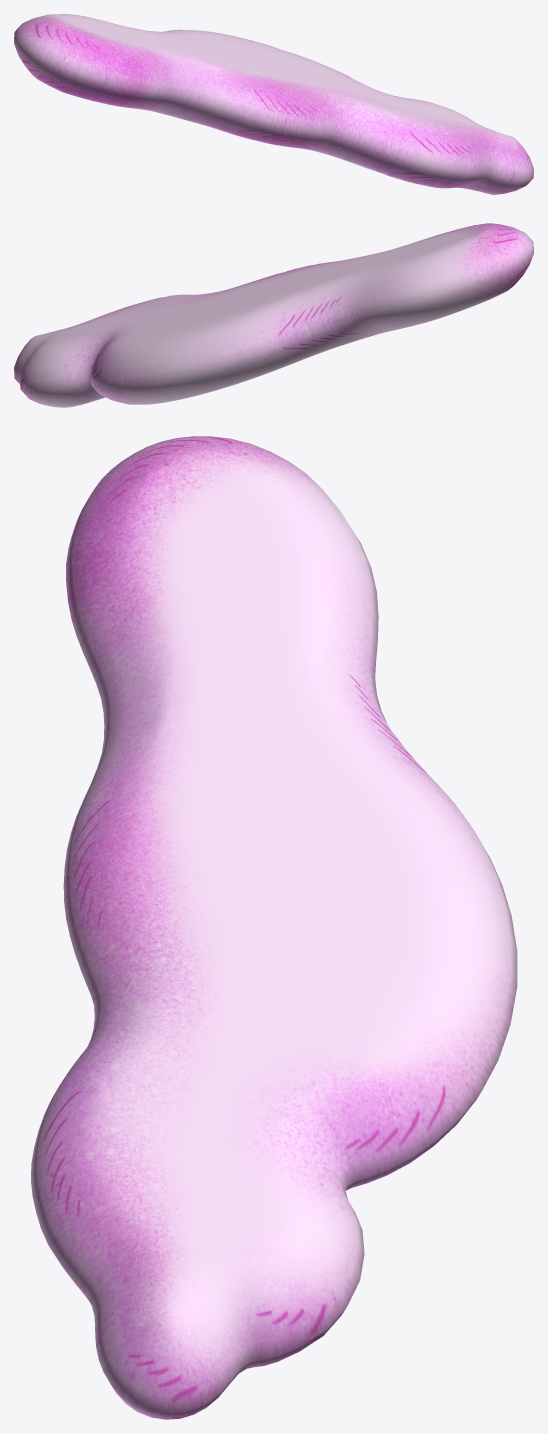
Rendered from Cloud_B005.obj.
3 views of the same model, one above another, from view 1: azimuth 30°, elevation 25°; view 2: azimuth 150°, elevation 25°; view 3: azimuth 270°, elevation 25° (orthographic). The views are drawn at different scales.
Visible parts, largest first — view 1: Cloud_B005; view 2: Cloud_B005; view 3: Cloud_B005.
Boxes of the visible parts, x1=… form: Cloud_B005: x1=14, y1=14, x2=533, y2=194; Cloud_B005: x1=14, y1=223, x2=533, y2=407; Cloud_B005: x1=31, y1=436, x2=517, y2=1419.
Bounding box in the file's own units: 0.6648 × 0.3425 × 0.2808.
Materials: 1 (1 with a texture image).
